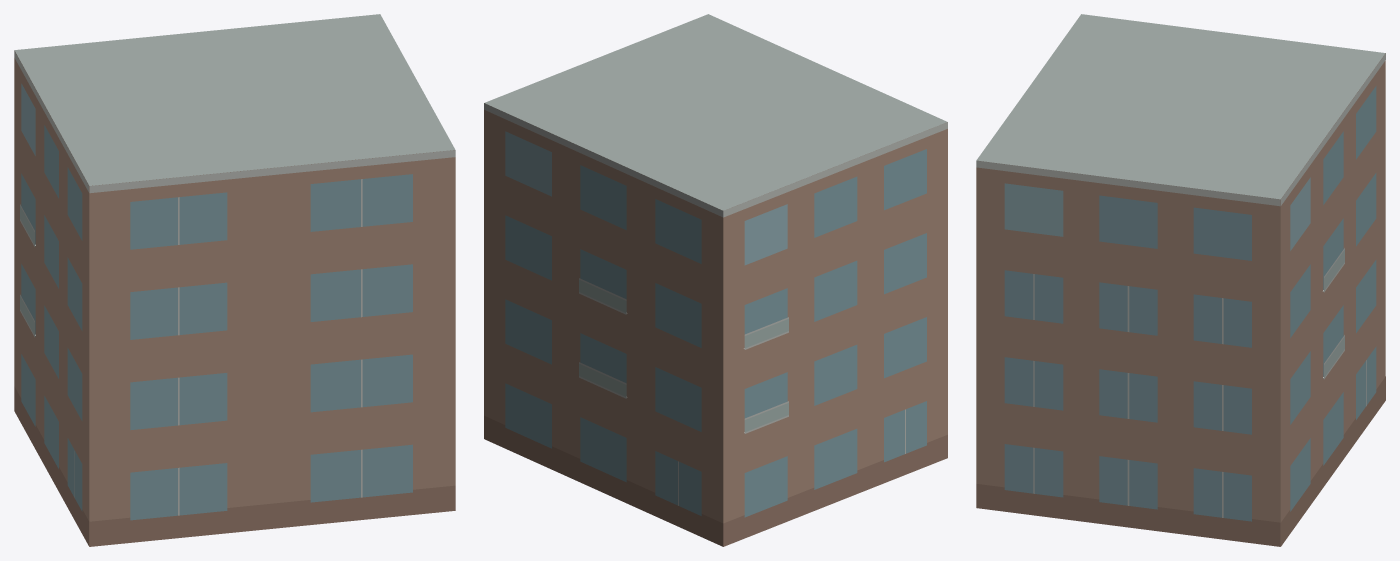
The model's file is residential-a7795874-92a4-4b3d-8727-31c7bf32d3a0.glb.
3 renders of one model, left to right at view 1: azimuth 30°, elevation 25°; view 2: azimuth 150°, elevation 25°; view 3: azimuth 270°, elevation 25°, orthographic. The views are drawn at different scales.
Visible parts, largest first — view 1: residential-a7795874-92a4-4b3d-8727-31c7bf32d3a0.tmp; view 2: residential-a7795874-92a4-4b3d-8727-31c7bf32d3a0.tmp; view 3: residential-a7795874-92a4-4b3d-8727-31c7bf32d3a0.tmp.
Part boxes in pixels (x1,y1,x2,y2): residential-a7795874-92a4-4b3d-8727-31c7bf32d3a0.tmp: (14,14,455,546); residential-a7795874-92a4-4b3d-8727-31c7bf32d3a0.tmp: (484,14,947,546); residential-a7795874-92a4-4b3d-8727-31c7bf32d3a0.tmp: (976,14,1385,546).
Bounding box in the file's own units: 13.97 × 12.2 × 13.04.
